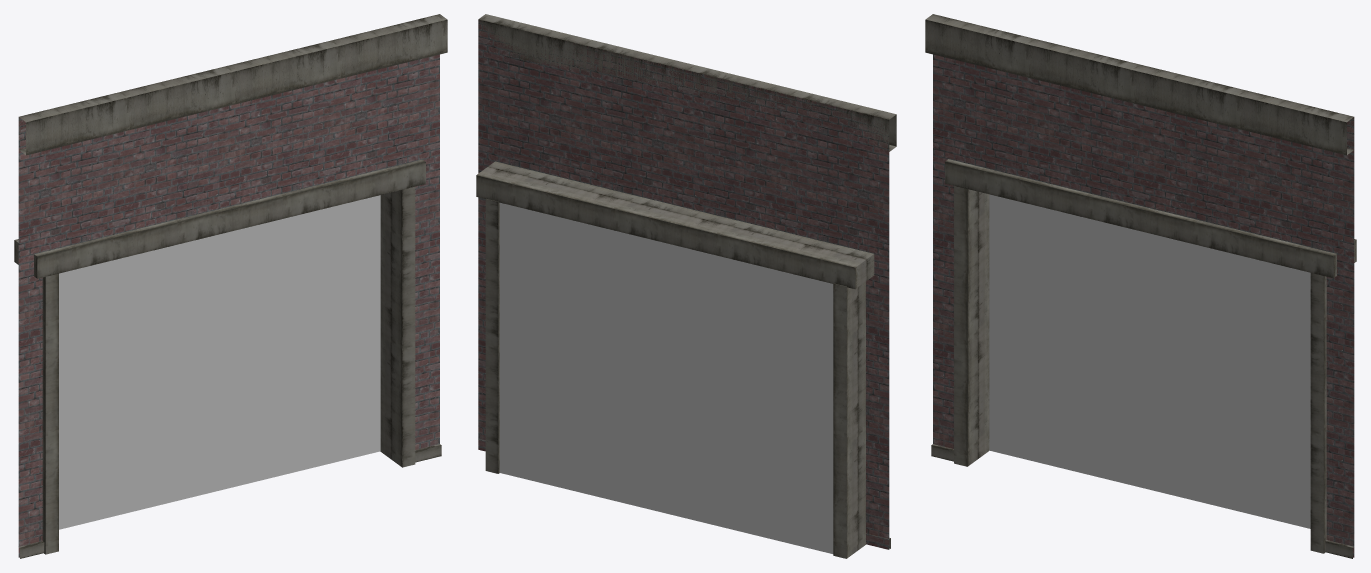
Rendered from Wall_D_Brick_Shops_B_4x.FBX.
3 renders of one model, left to right at view 1: azimuth 30°, elevation 25°; view 2: azimuth 150°, elevation 25°; view 3: azimuth 330°, elevation 25°, orthographic. The views are drawn at different scales.
Parts seen in each view (by area): view 1: Wall_D_Brick_Shops_B_4x; view 2: Wall_D_Brick_Shops_B_4x; view 3: Wall_D_Brick_Shops_B_4x.
Part boxes in pixels (box(x1,y1,x2,y2)): Wall_D_Brick_Shops_B_4x: box(14, 14, 447, 558); Wall_D_Brick_Shops_B_4x: box(476, 14, 896, 558); Wall_D_Brick_Shops_B_4x: box(925, 14, 1356, 558).
Size of the model in its own units: 400 by 400 by 45.14.
